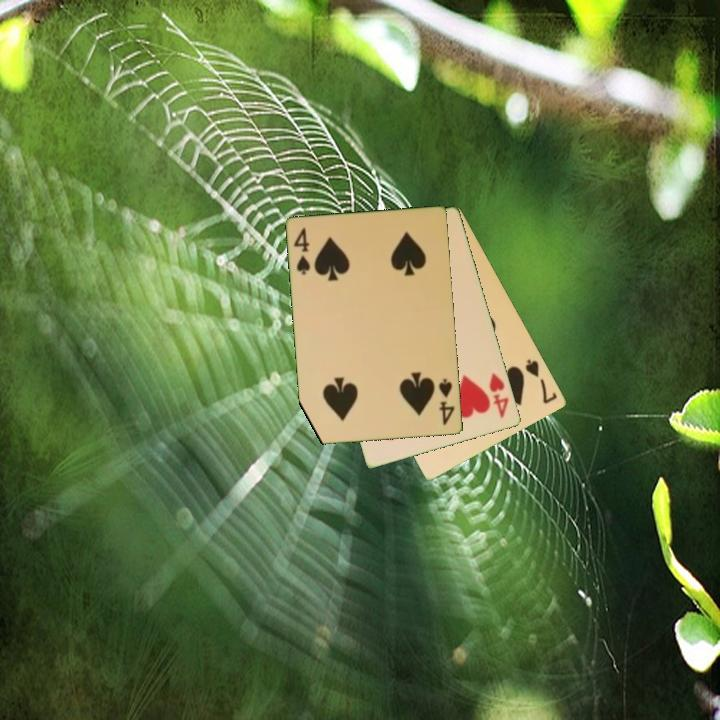4h: (486, 370, 512, 421)
4s: (290, 224, 313, 278), (435, 375, 457, 429)
7s: (522, 355, 561, 407)
